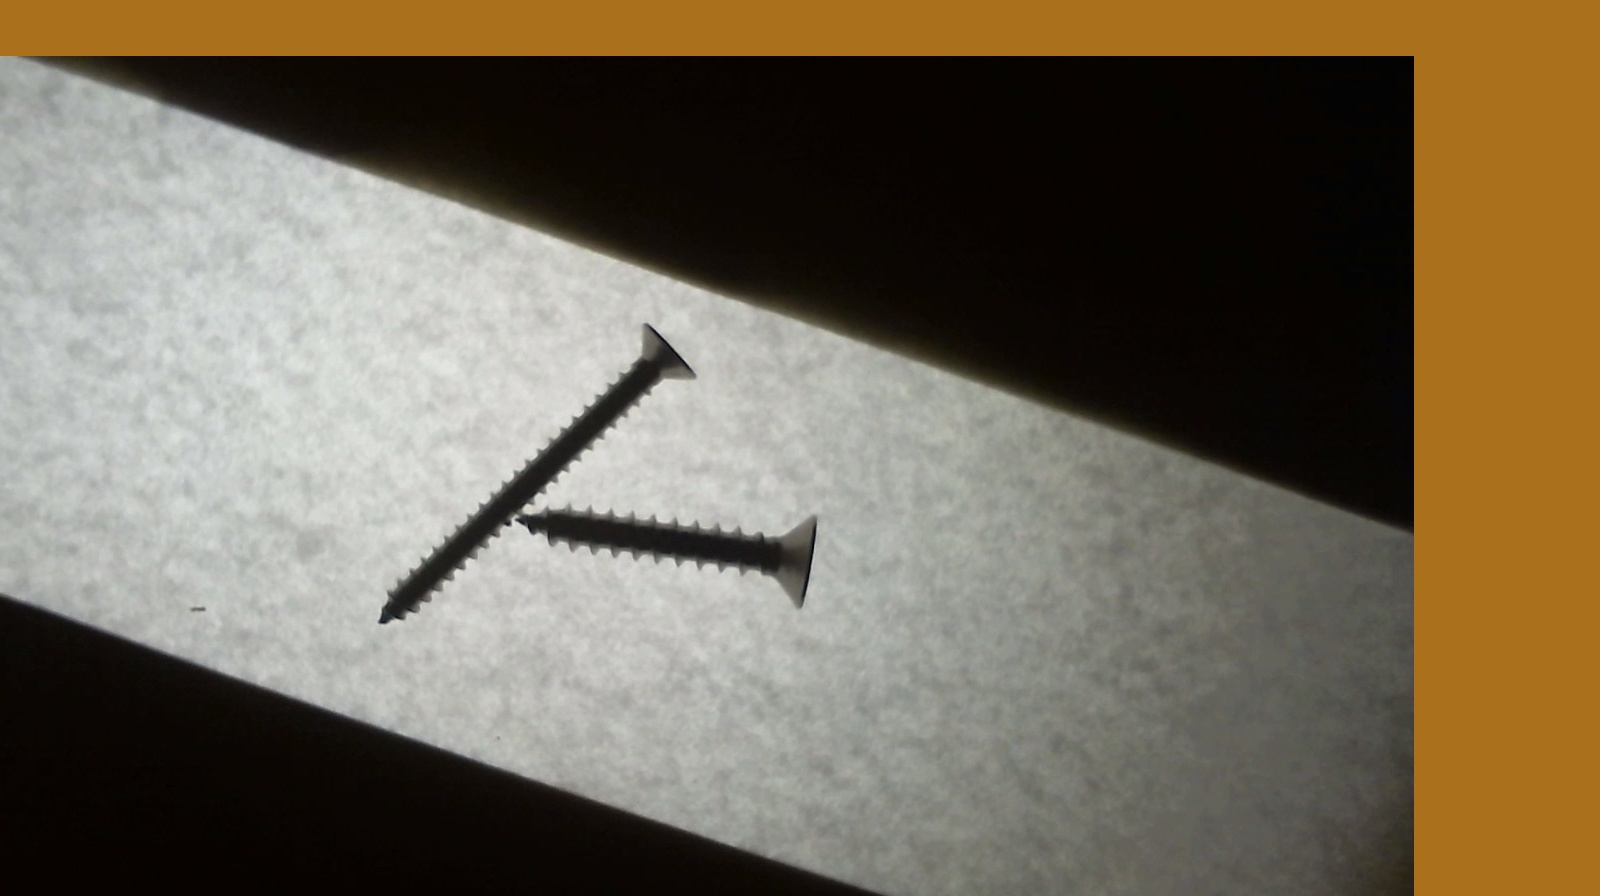S001: (518, 507, 816, 617)
S002: (371, 317, 700, 627)
